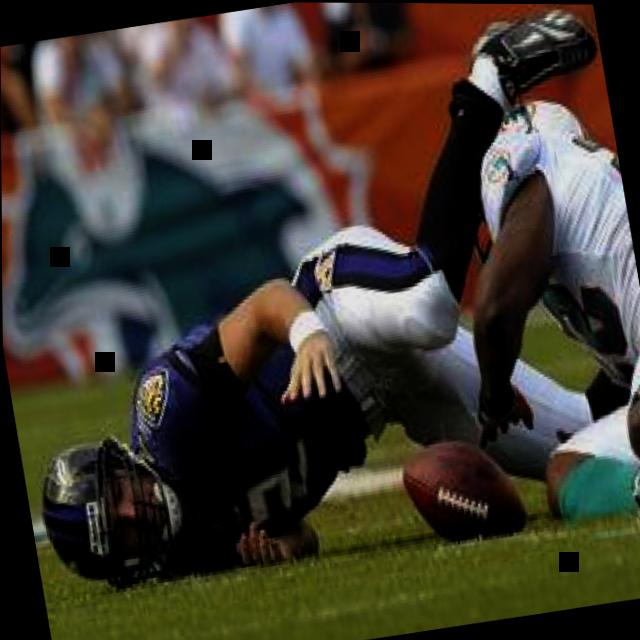Fall-Detected: (0, 0, 602, 598)
